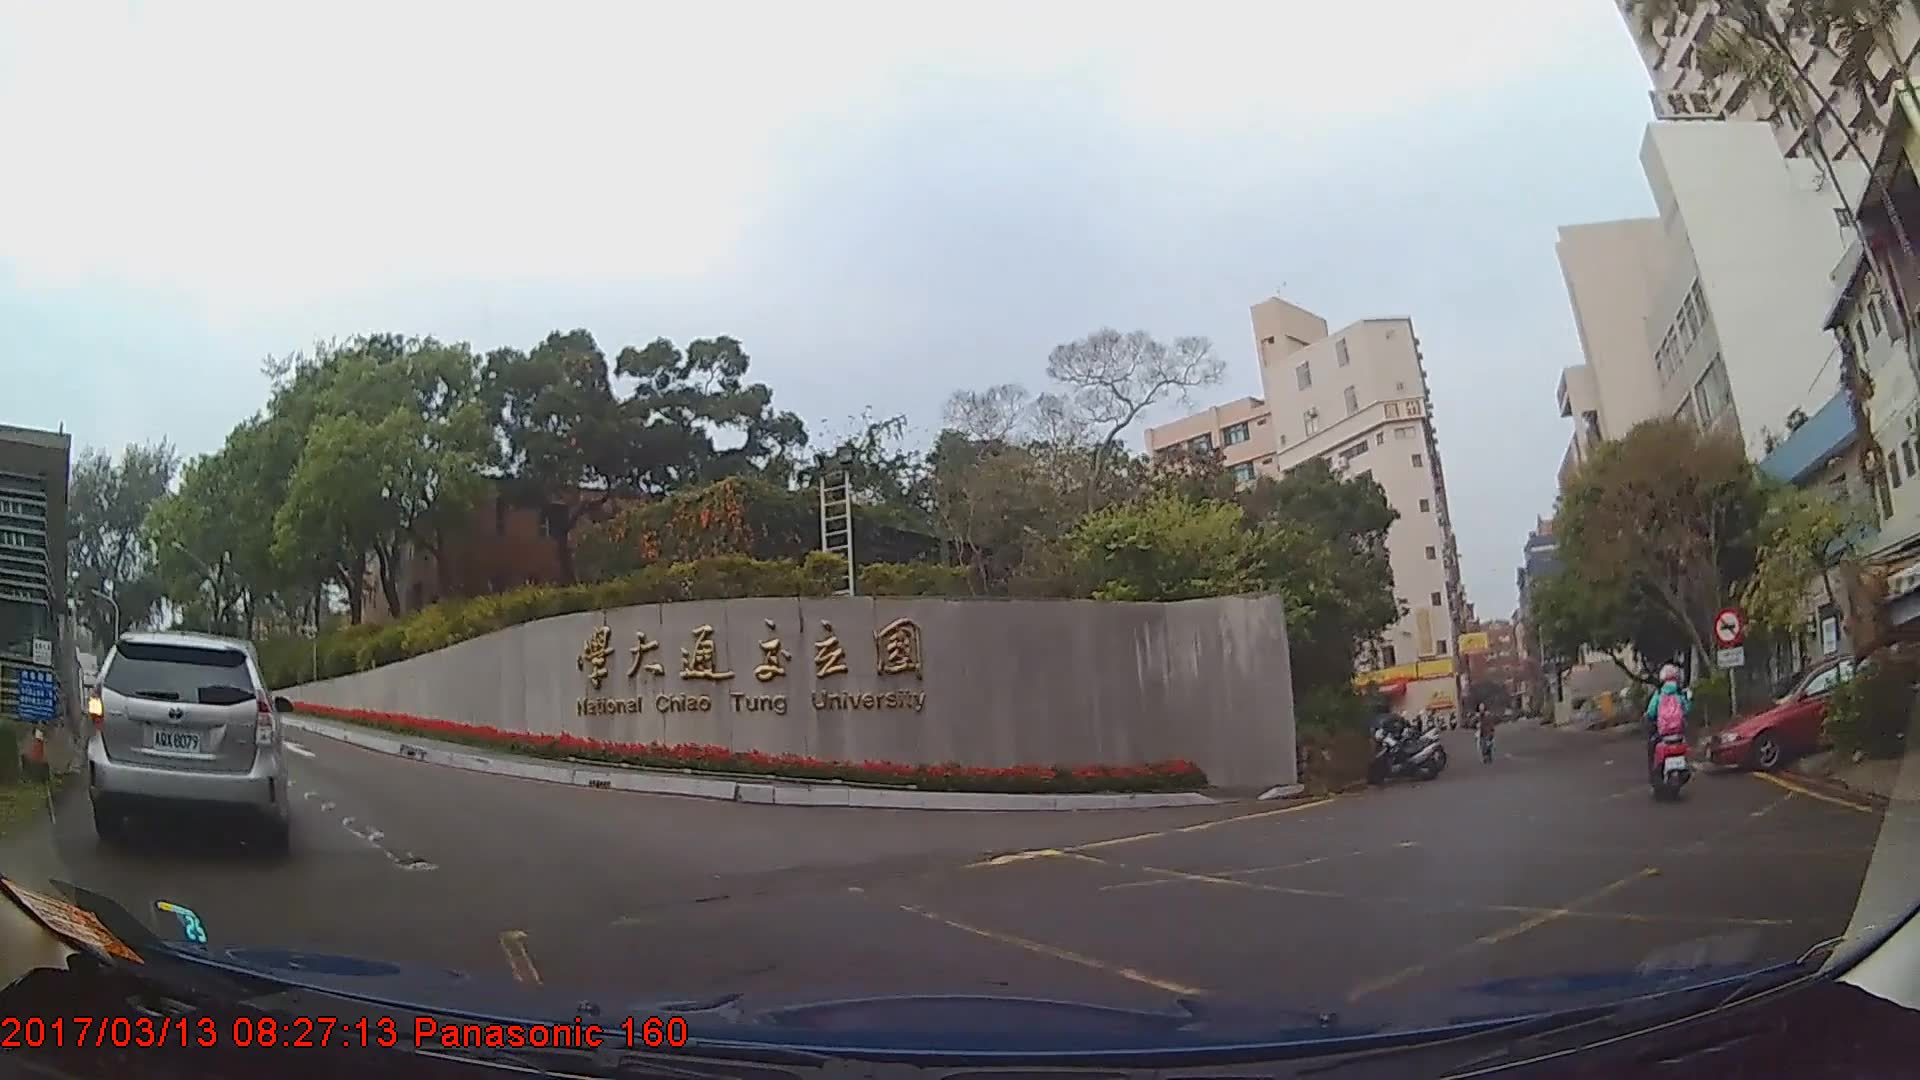pedestrian: (1470, 704, 1498, 766)
rider: (1650, 662, 1696, 804)
vehicle: (87, 626, 292, 850), (1704, 657, 1902, 776)
